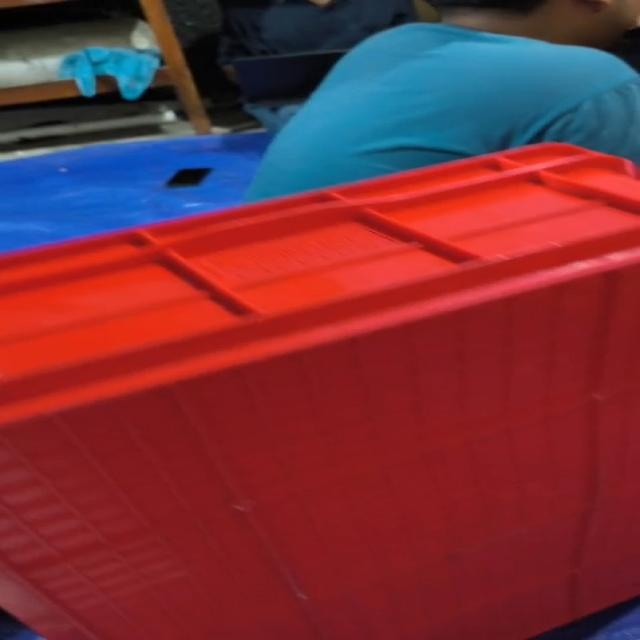red plastic box: (0, 142, 639, 639)
